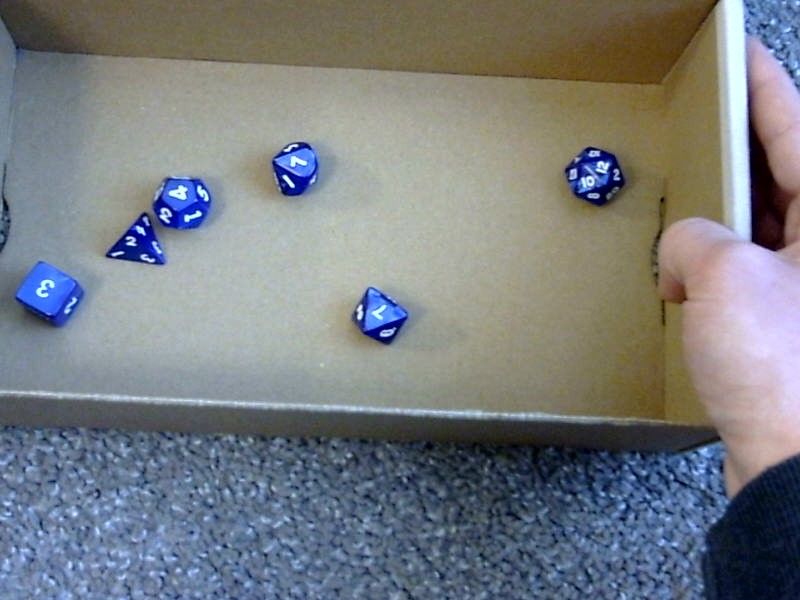d10 7: (269, 135, 321, 198)
d12 4: (153, 171, 219, 231)
d20 12: (562, 146, 631, 207)
d4 2: (101, 207, 166, 265)
d6 3: (15, 260, 90, 327)
d8 7: (347, 283, 415, 348)
